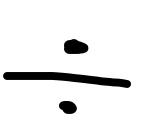plus: (4, 40, 131, 113)
